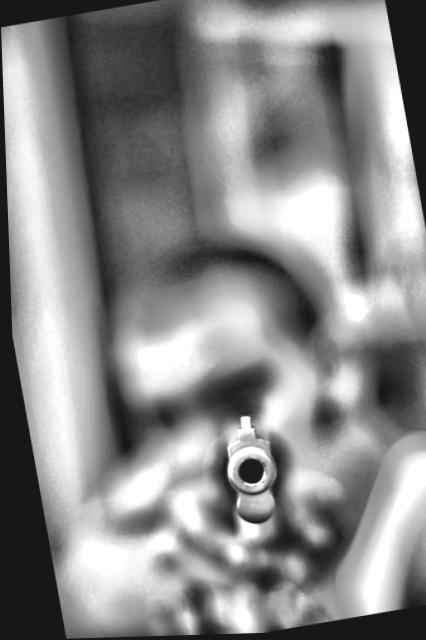pistol: (197, 405, 299, 549)
